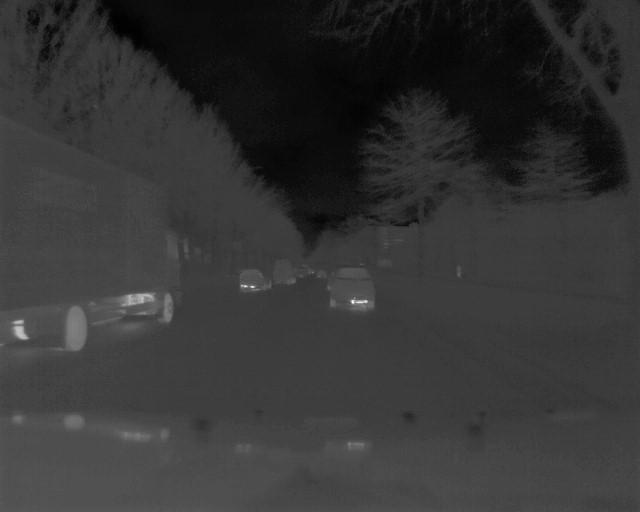car: (1, 159, 186, 355), (327, 263, 378, 314), (234, 264, 275, 293)
